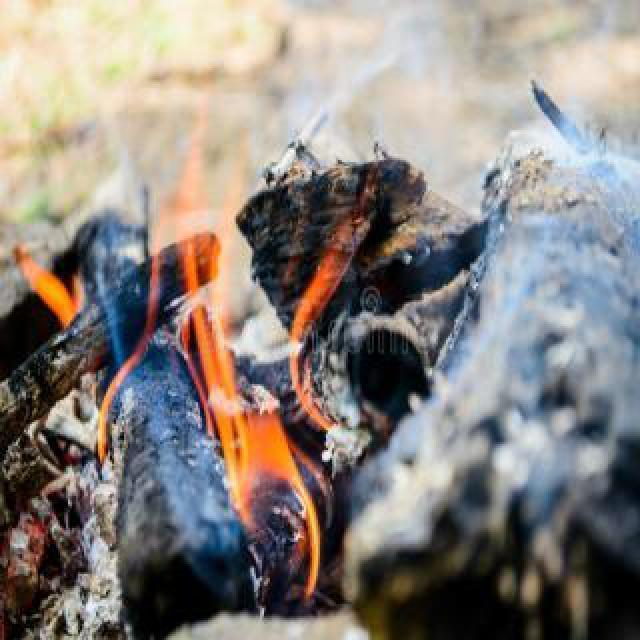Fire: (143, 101, 324, 586)
Smoke: (326, 11, 463, 142)
